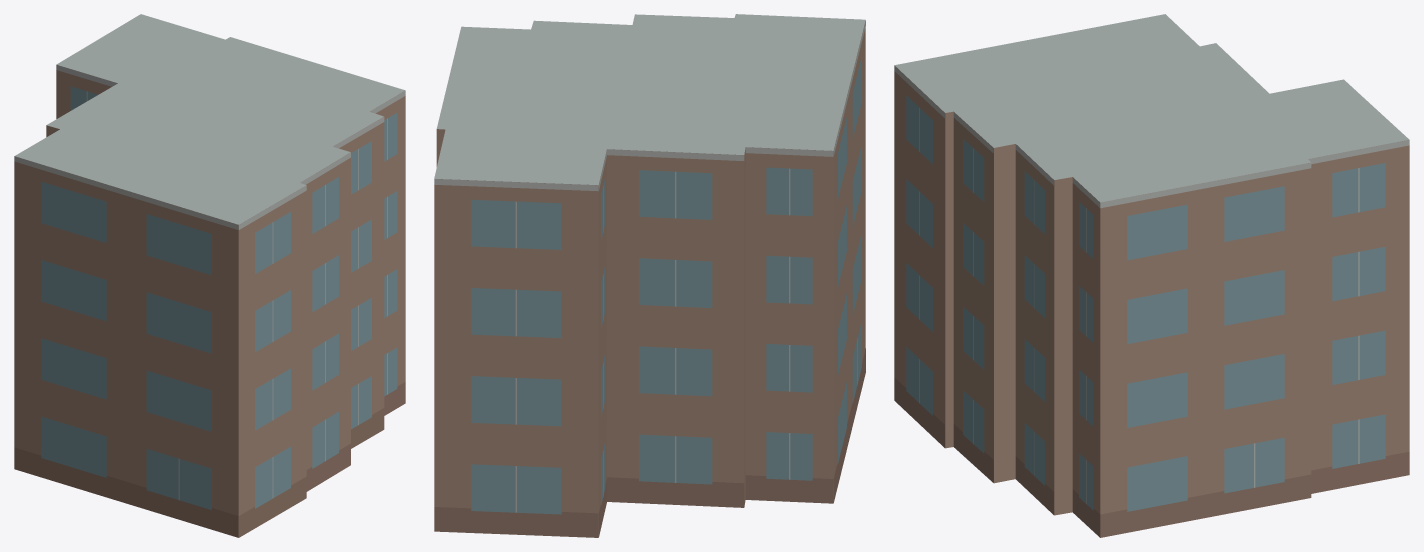
The model's file is survey-upis-32663825.glb.
The picture shows the model from 3 angles, left to right: view 1: azimuth 30°, elevation 25°; view 2: azimuth 150°, elevation 25°; view 3: azimuth 270°, elevation 25°; orthographic projection. The views are drawn at different scales.
Parts seen in each view (by area): view 1: survey-upis-32663825.tmp; view 2: survey-upis-32663825.tmp; view 3: survey-upis-32663825.tmp.
Part boxes in pixels (x1=…): survey-upis-32663825.tmp: x1=14, y1=14, x2=405, y2=537; survey-upis-32663825.tmp: x1=434, y1=14, x2=865, y2=537; survey-upis-32663825.tmp: x1=894, y1=14, x2=1409, y2=537.
Size of the model in its own units: 17.25 by 14.3 by 19.92.
